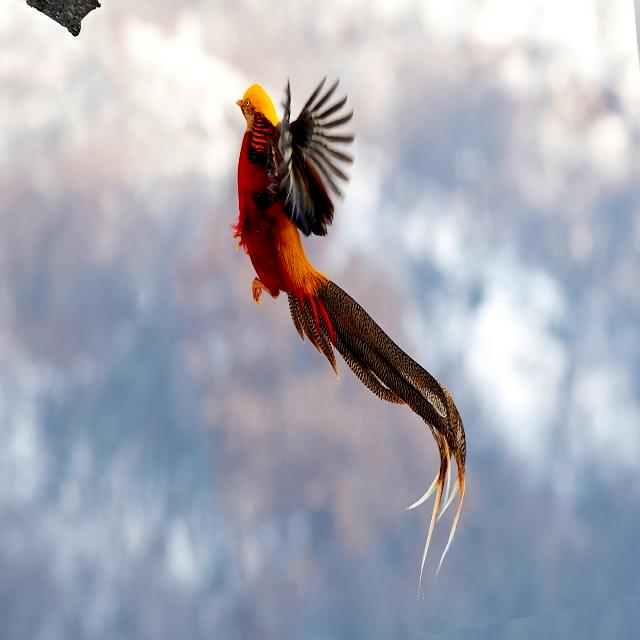Chrysolophus pictus feather: (289, 280, 465, 575)
